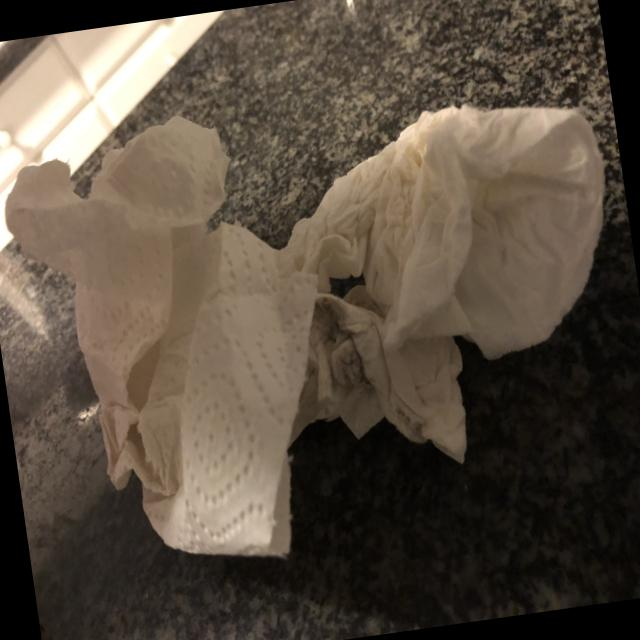organic waste: (0, 92, 360, 597), (293, 84, 640, 485)
